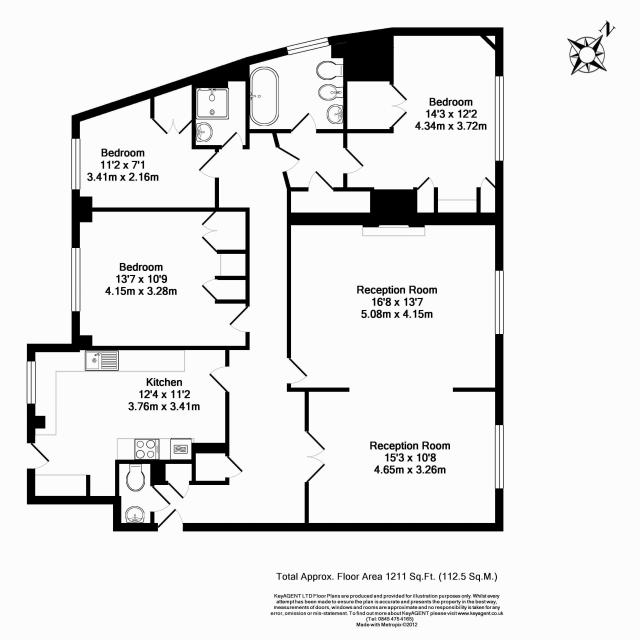DOOR: (271, 140, 306, 177), (26, 437, 54, 473), (151, 506, 186, 532), (289, 107, 321, 134), (206, 360, 230, 394), (343, 144, 366, 177), (306, 168, 337, 192), (227, 303, 250, 335), (196, 150, 219, 181), (150, 483, 173, 514), (287, 356, 309, 384), (218, 129, 245, 150), (165, 480, 191, 501), (225, 453, 245, 480)
DOUBLE DOOR: (304, 430, 327, 484)
ROOM: (286, 212, 504, 532), (26, 343, 230, 505), (343, 27, 504, 228), (72, 207, 250, 351), (71, 75, 220, 212)
WINDOW: (492, 70, 509, 166), (282, 33, 331, 58), (69, 244, 83, 315), (23, 356, 40, 408), (494, 269, 505, 336), (494, 424, 505, 490), (69, 136, 82, 191)
